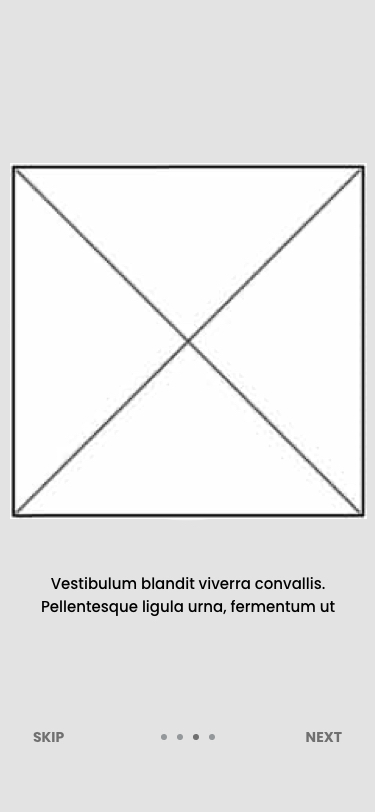Image: (11, 165, 366, 519)
PageIndicator: (160, 733, 216, 741)
Text: (42, 576, 336, 618), (305, 731, 342, 743), (34, 731, 65, 743)
